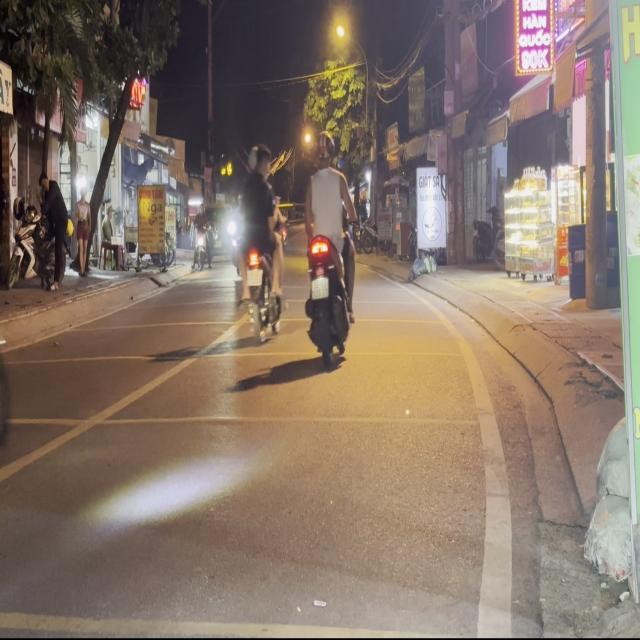helmet: (314, 132, 336, 168)
licenseplate: (302, 130, 358, 370), (229, 136, 285, 344)
motorcyclist: (254, 143, 272, 182)
nohelmet: (311, 276, 328, 299), (246, 268, 262, 285)
